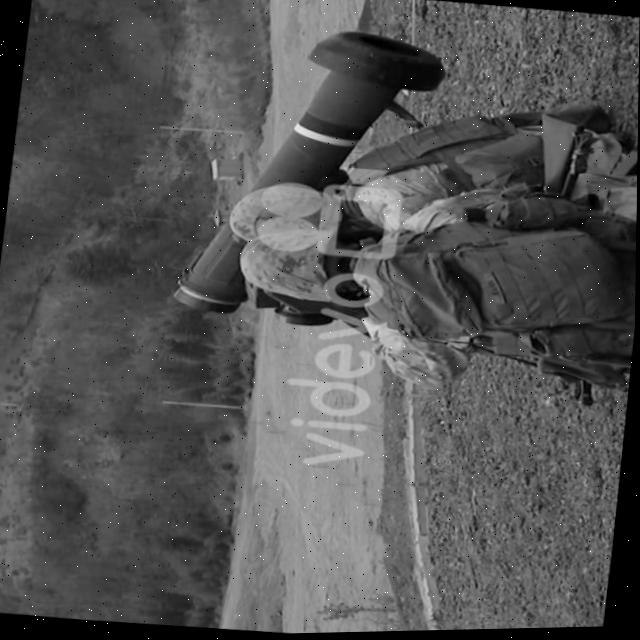rocket: (172, 16, 448, 329)
